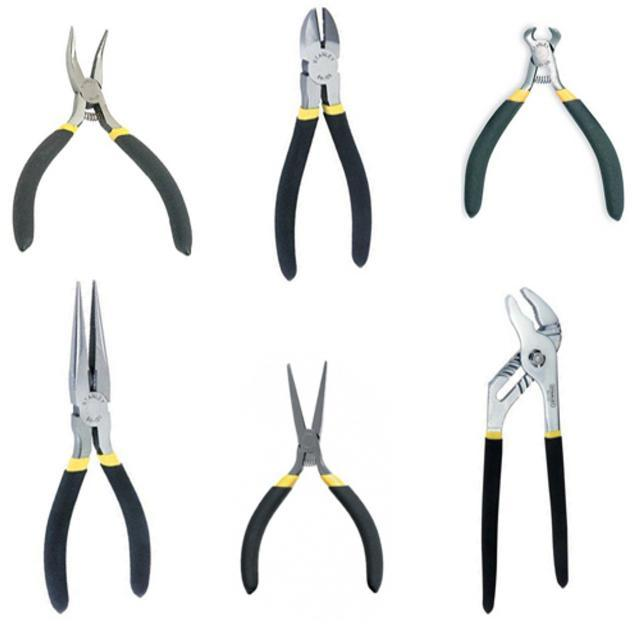pliers: (8, 20, 206, 264), (34, 274, 154, 618), (234, 352, 390, 602), (466, 284, 580, 618), (264, 2, 382, 286), (460, 24, 624, 227)
